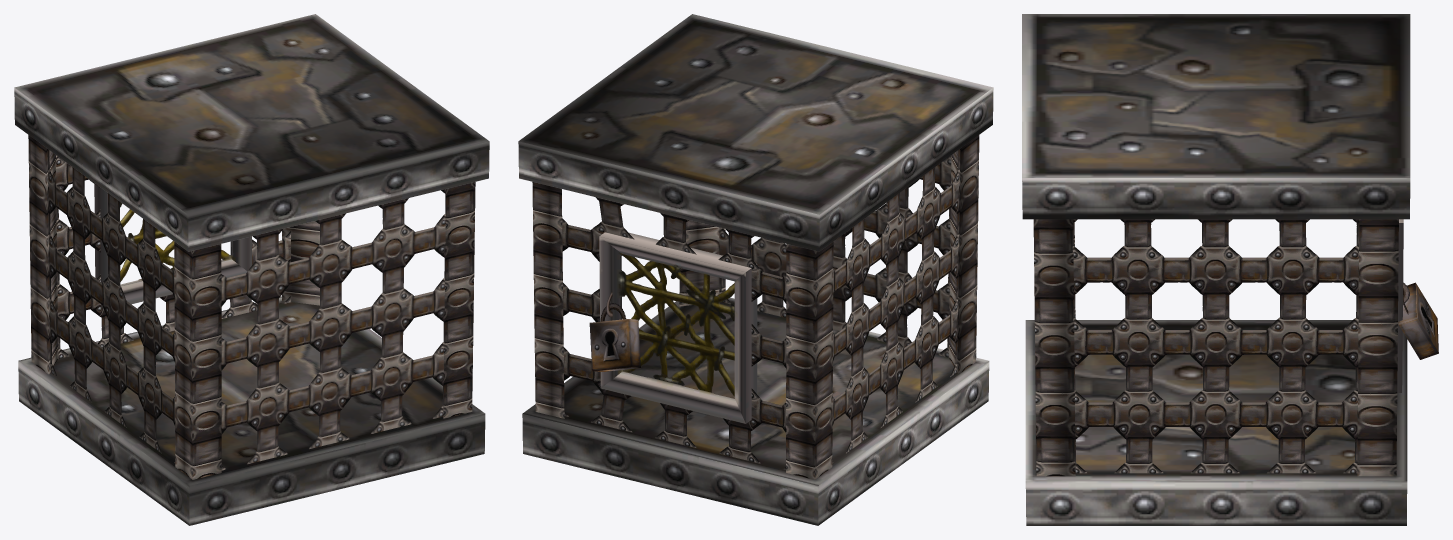
Rendered from cage03.obj.
3 views of the same model, side by side, from view 1: azimuth 30°, elevation 25°; view 2: azimuth 150°, elevation 25°; view 3: azimuth 270°, elevation 25° (orthographic). The views are drawn at different scales.
Parts seen in each view (by area): view 1: CAGE030, CAGE032, CAGE033; view 2: CAGE030, CAGE032, CAGE033, CAGE031; view 3: CAGE030, CAGE032, CAGE031, CAGE033.
Boxes of the visible parts, bbox=[...] form: CAGE030: bbox=[14, 14, 489, 525]; CAGE032: bbox=[28, 135, 475, 479]; CAGE033: bbox=[94, 184, 251, 307]; CAGE030: bbox=[518, 14, 993, 525]; CAGE032: bbox=[532, 135, 979, 479]; CAGE033: bbox=[599, 232, 757, 423]; CAGE031: bbox=[589, 319, 640, 371]; CAGE030: bbox=[1022, 14, 1410, 525]; CAGE032: bbox=[1033, 219, 1398, 476]; CAGE031: bbox=[1398, 282, 1438, 359]; CAGE033: bbox=[1397, 219, 1403, 392].
Size of the model in its own units: 3.09 by 3.07 by 3.32.
Materials: 5 (5 with a texture image).
